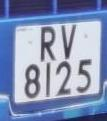1: (42, 60, 56, 100)
2: (53, 59, 75, 100)
5: (73, 55, 96, 100)
8: (20, 62, 45, 102)
R: (37, 21, 59, 65)
V: (57, 19, 81, 61)
